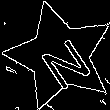N_NW: (28, 24, 92, 88)
